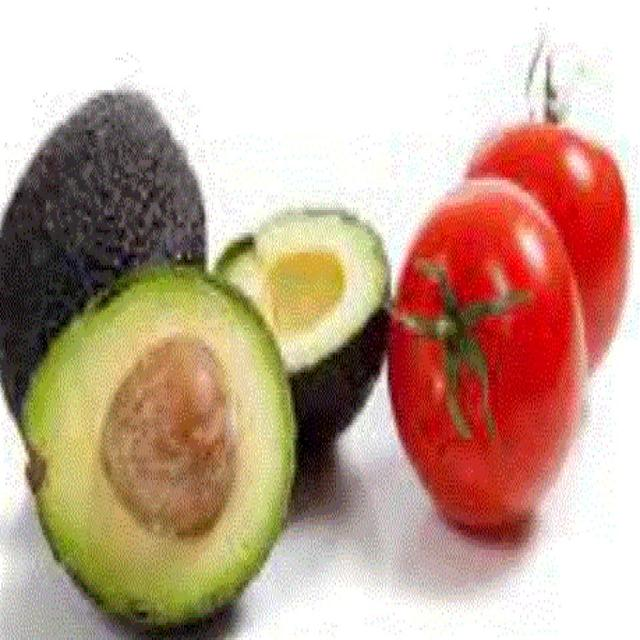Healthy Fruit: (111, 164, 367, 233)
